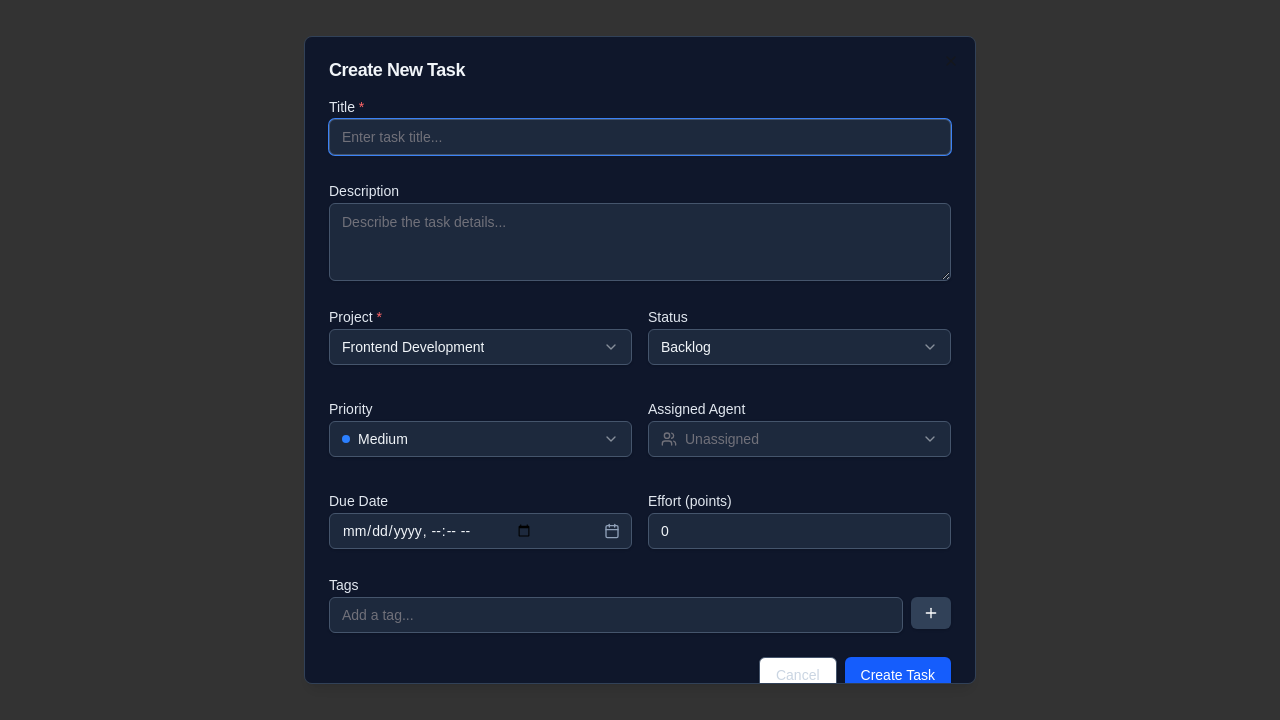
Test: TaskFormDialog Component › Form validation › shows error when title is empty
Step 1. Click the button "Create Task" → (898, 675), box left=844, top=657, right=951, bottom=693
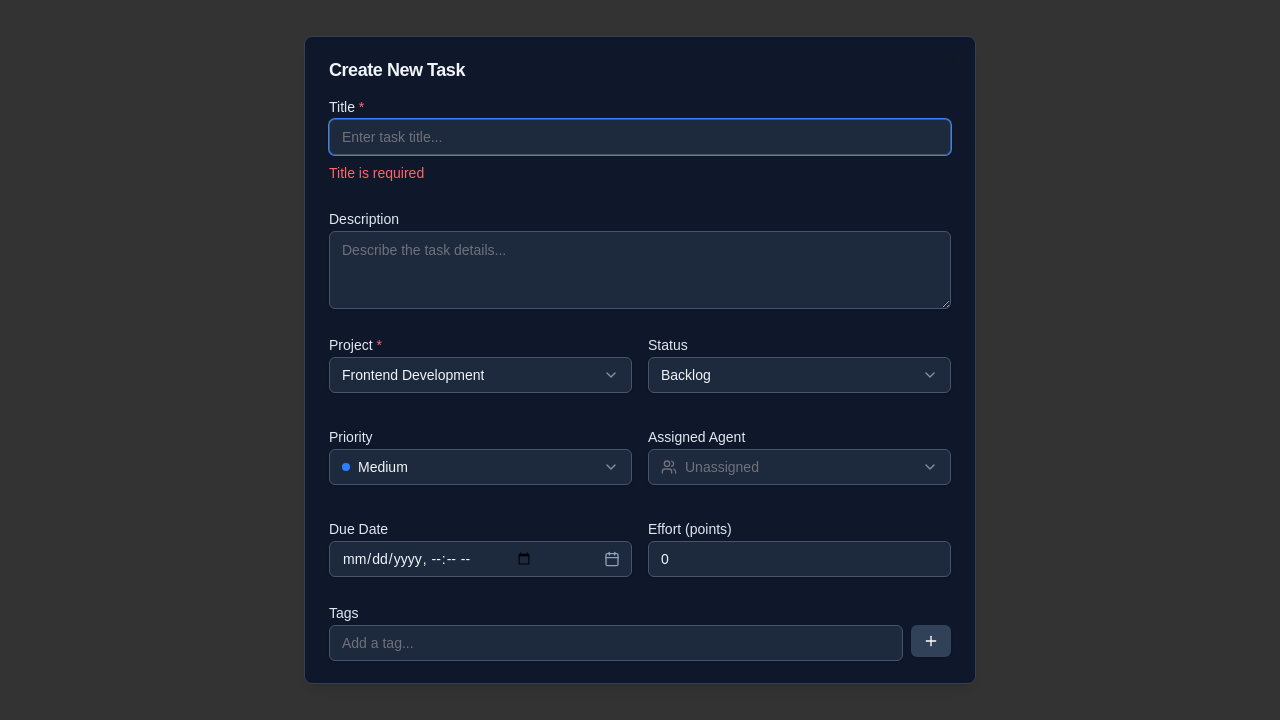
Check: the text "Title is required" is shown, box left=329, top=165, right=424, bottom=181
